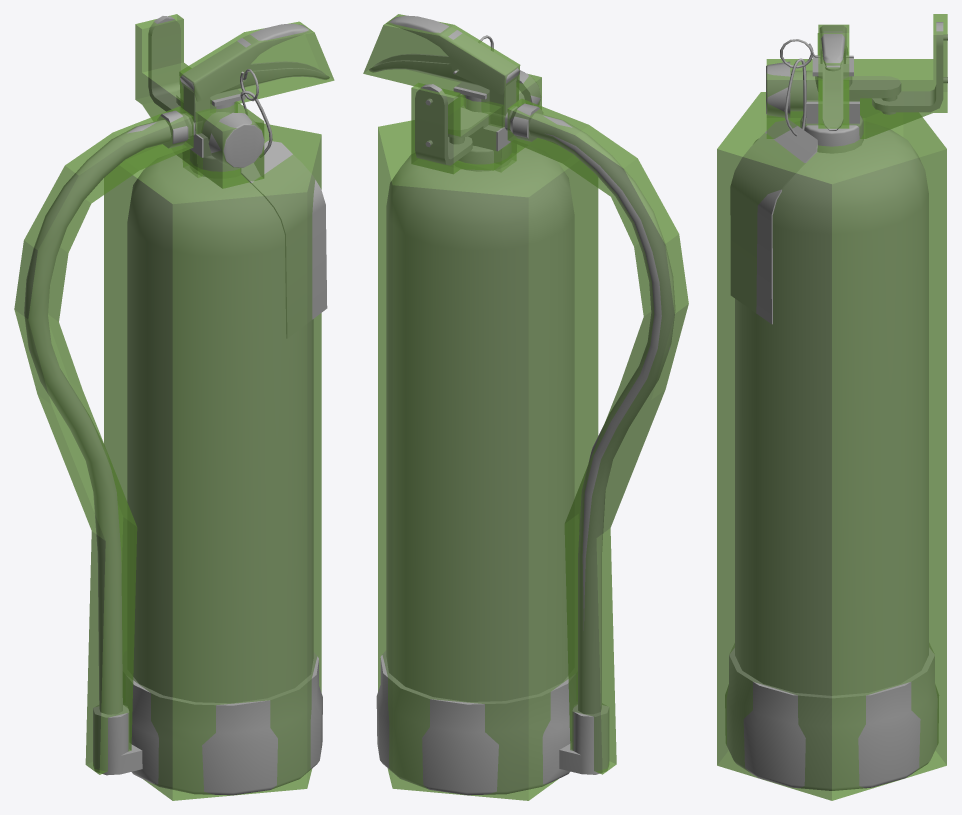
The model's file is p_FireExtinguisher_01_a.fbx.
The picture shows the model from 3 angles, left to right: view 1: azimuth 30°, elevation 25°; view 2: azimuth 150°, elevation 25°; view 3: azimuth 270°, elevation 25°; orthographic projection. The views are drawn at different scales.
Visible parts, largest first — view 1: p_FireExtinguisher_01_a_col, p_FireExtinguisher_01_a_LOD0; view 2: p_FireExtinguisher_01_a_col, p_FireExtinguisher_01_a_LOD0; view 3: p_FireExtinguisher_01_a_col, p_FireExtinguisher_01_a_LOD0.
Part boxes in pixels (left/top/right/bottom): p_FireExtinguisher_01_a_col: left=14, top=14, right=334, bottom=800; p_FireExtinguisher_01_a_LOD0: left=24, top=16, right=329, bottom=795; p_FireExtinguisher_01_a_col: left=363, top=14, right=688, bottom=800; p_FireExtinguisher_01_a_LOD0: left=369, top=15, right=675, bottom=795; p_FireExtinguisher_01_a_col: left=717, top=14, right=947, bottom=800; p_FireExtinguisher_01_a_LOD0: left=725, top=22, right=947, bottom=790.
Size of what is drawn, in the model's own units: 32.24 by 71.4 by 20.29.
